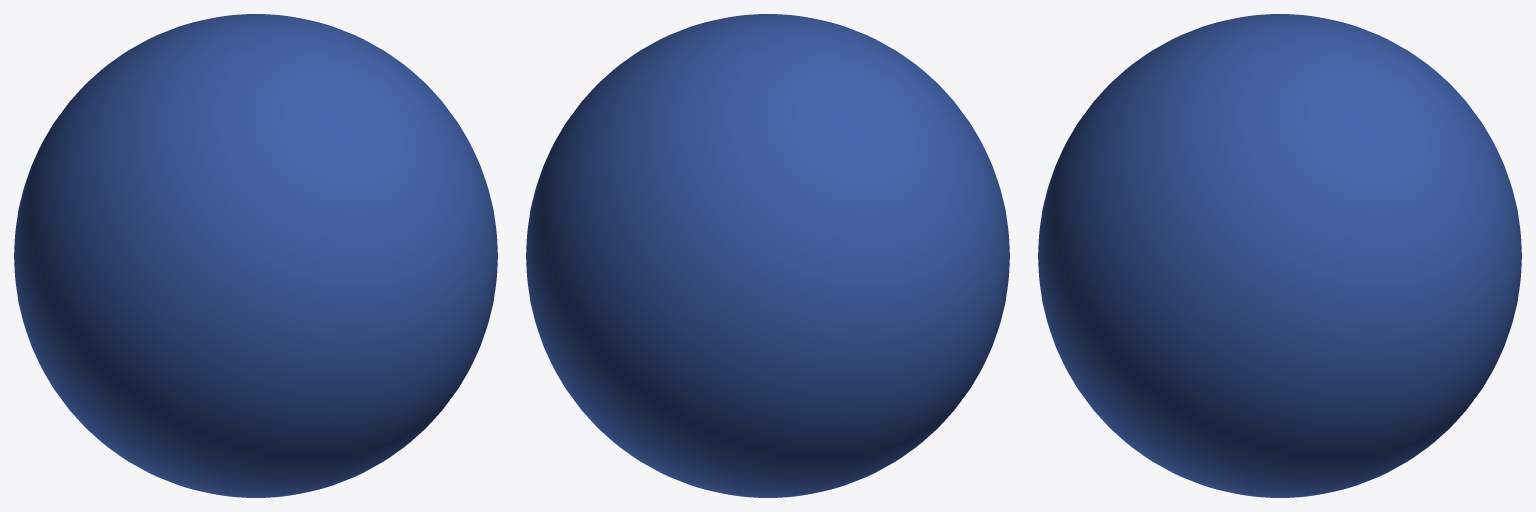
File: Planet_Neptune.glb
3 views of the same model, side by side, from view 1: azimuth 30°, elevation 25°; view 2: azimuth 150°, elevation 25°; view 3: azimuth 270°, elevation 25° (orthographic).
Parts seen in each view (by area): view 1: Planet_Neptune; view 2: Planet_Neptune; view 3: Planet_Neptune.
Part boxes in pixels (x1,y1,x2,y2): Planet_Neptune: (14,14,497,497); Planet_Neptune: (526,14,1009,497); Planet_Neptune: (1038,14,1521,497).
Bounding box in the file's own units: 2 × 2 × 2.
